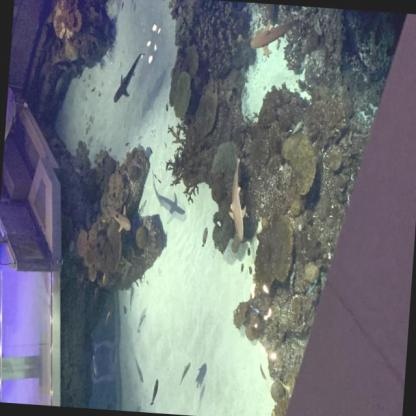fish: (178, 361, 191, 387), (133, 357, 146, 383), (150, 378, 159, 406), (136, 309, 146, 334), (200, 225, 210, 249), (102, 309, 112, 333), (257, 363, 269, 383), (128, 284, 135, 308), (246, 246, 253, 258), (239, 262, 245, 275), (247, 265, 254, 276), (134, 403, 142, 411), (148, 145, 154, 155), (164, 102, 169, 113), (122, 305, 127, 315), (152, 174, 157, 180), (157, 178, 162, 184), (125, 141, 130, 146)
shark: (224, 149, 251, 244), (249, 16, 303, 60), (111, 48, 146, 107), (150, 178, 188, 217), (104, 202, 134, 234)
